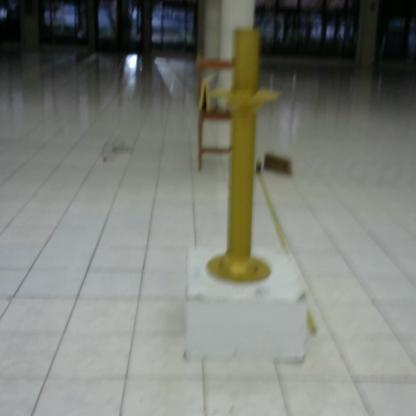pole: (203, 28, 287, 292)
